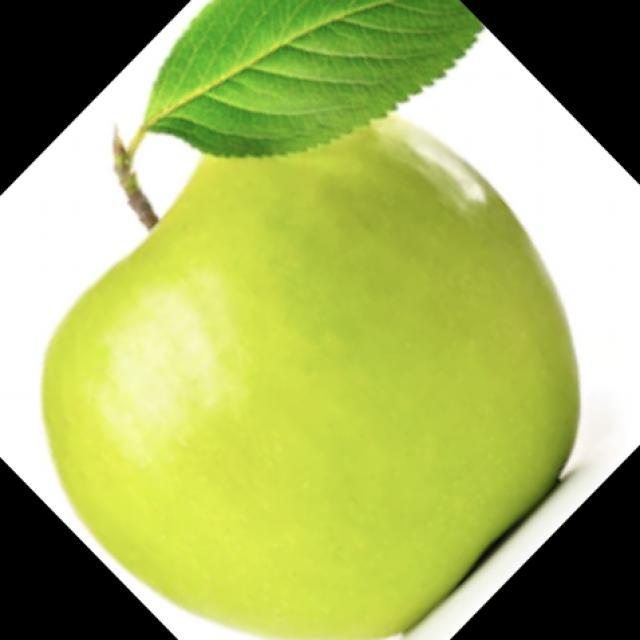Fresh Apple: (40, 82, 580, 640)
